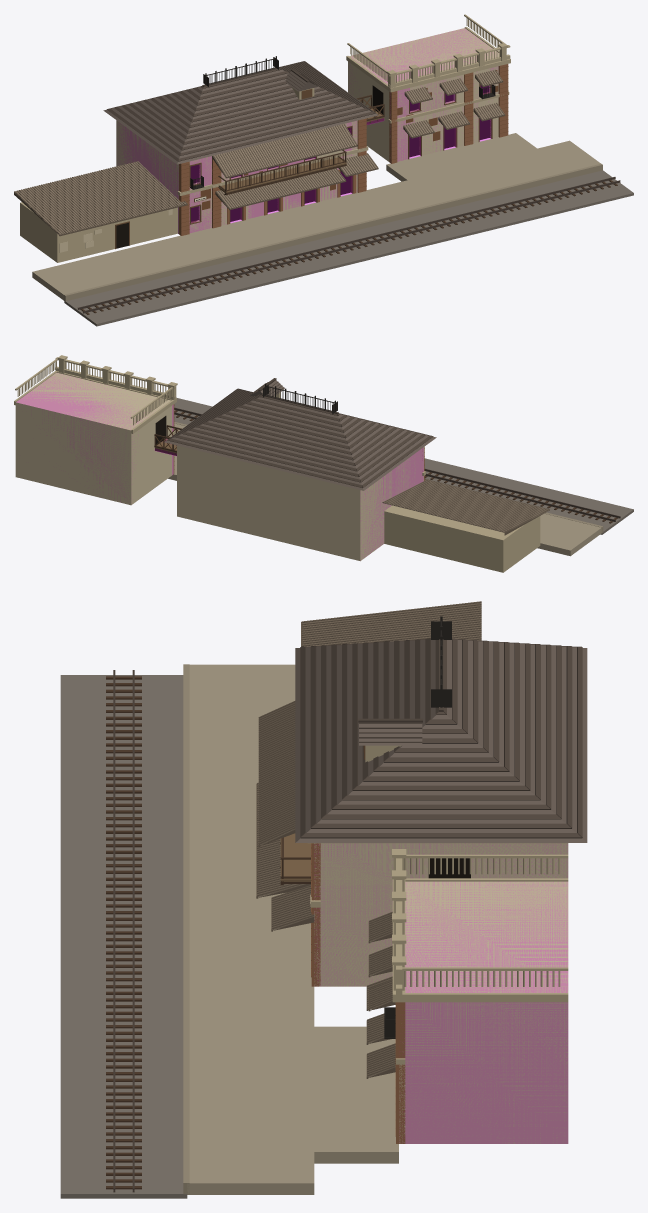
File: estacion-montoya.glb
The picture shows the model from 3 angles, top to bottom: view 1: azimuth 30°, elevation 25°; view 2: azimuth 150°, elevation 25°; view 3: azimuth 270°, elevation 25°; orthographic projection. The views are drawn at different scales.
Parts seen in each view (by area): view 1: Estacion_Montoya_Anden, Estacion_Montoya_Balasto, Estacion_Montoya_Muro, Estacion_Montoya_CalaminaOscura, Estacion_Montoya_Calamina, Estacion_Montoya_TejaGrisOscura, Estacion_Montoya_TejaGris, Estacion_Montoya_MuroSombra, Estacion_Montoya_Ladrillo, Estacion_Montoya_PiedraBorde, Estacion_Montoya_Riel, COL_Edificio_Principal (+7 smaller); view 2: Estacion_Montoya_Muro, Estacion_Montoya_TejaGrisOscura, Estacion_Montoya_MuroSombra, Estacion_Montoya_TejaGris, Estacion_Montoya_CalaminaOscura, Estacion_Montoya_Balasto, Estacion_Montoya_Calamina, Estacion_Montoya_Anden, COL_Edificio_Derecho, Estacion_Montoya_Riel, COL_Edificio_Principal, Estacion_Montoya_MaderaOscura (+1 smaller); view 3: Estacion_Montoya_Anden, Estacion_Montoya_Balasto, Estacion_Montoya_Muro, Estacion_Montoya_TejaGrisOscura, Estacion_Montoya_TejaGris, COL_Edificio_Derecho, Estacion_Montoya_CalaminaOscura, Estacion_Montoya_MaderaOscura, Estacion_Montoya_MuroSombra, Estacion_Montoya_Calamina, Estacion_Montoya_PiedraBorde, Estacion_Montoya_Riel (+3 smaller).
Part boxes in pixels (bbox=[...]): Estacion_Montoya_Anden: bbox=[32, 133, 600, 300]; Estacion_Montoya_Balasto: bbox=[64, 170, 633, 326]; Estacion_Montoya_Muro: bbox=[59, 28, 499, 252]; Estacion_Montoya_CalaminaOscura: bbox=[14, 69, 505, 236]; Estacion_Montoya_Calamina: bbox=[15, 70, 503, 234]; Estacion_Montoya_TejaGrisOscura: bbox=[107, 61, 375, 161]; Estacion_Montoya_TejaGris: bbox=[103, 61, 378, 164]; Estacion_Montoya_MuroSombra: bbox=[20, 14, 510, 262]; Estacion_Montoya_Ladrillo: bbox=[179, 64, 508, 235]; Estacion_Montoya_PiedraBorde: bbox=[64, 163, 602, 301]; Estacion_Montoya_Riel: bbox=[78, 177, 620, 313]; COL_Edificio_Principal: bbox=[121, 121, 356, 233]; Estacion_Montoya_Muro: bbox=[15, 372, 423, 561]; Estacion_Montoya_TejaGrisOscura: bbox=[167, 378, 433, 487]; Estacion_Montoya_MuroSombra: bbox=[14, 355, 540, 572]; Estacion_Montoya_TejaGris: bbox=[164, 380, 436, 490]; Estacion_Montoya_CalaminaOscura: bbox=[383, 479, 549, 535]; Estacion_Montoya_Balasto: bbox=[174, 397, 633, 534]; Estacion_Montoya_Calamina: bbox=[382, 479, 549, 532]; Estacion_Montoya_Anden: bbox=[168, 423, 601, 556]; COL_Edificio_Derecho: bbox=[17, 379, 173, 474]; Estacion_Montoya_Riel: bbox=[174, 407, 620, 521]; COL_Edificio_Principal: bbox=[365, 448, 423, 553]; Estacion_Montoya_MaderaOscura: bbox=[154, 410, 617, 523]; Estacion_Montoya_Anden: bbox=[187, 664, 398, 1194]; Estacion_Montoya_Balasto: bbox=[60, 675, 187, 1198]; Estacion_Montoya_Muro: bbox=[314, 843, 568, 1143]; Estacion_Montoya_TejaGrisOscura: bbox=[300, 638, 582, 838]; Estacion_Montoya_TejaGris: bbox=[295, 640, 587, 842]; COL_Edificio_Derecho: bbox=[405, 882, 567, 1143]; Estacion_Montoya_CalaminaOscura: bbox=[256, 601, 481, 1078]; Estacion_Montoya_MaderaOscura: bbox=[106, 676, 310, 1189]; Estacion_Montoya_MuroSombra: bbox=[308, 745, 568, 1064]; Estacion_Montoya_Calamina: bbox=[257, 603, 481, 1077]; Estacion_Montoya_PiedraBorde: bbox=[183, 664, 189, 1194]; Estacion_Montoya_Riel: bbox=[113, 670, 134, 1192].
Size of the model in its own units: 58 by 13.65 by 24.9.
